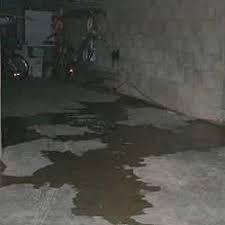water accumulation: (0, 93, 225, 225)
